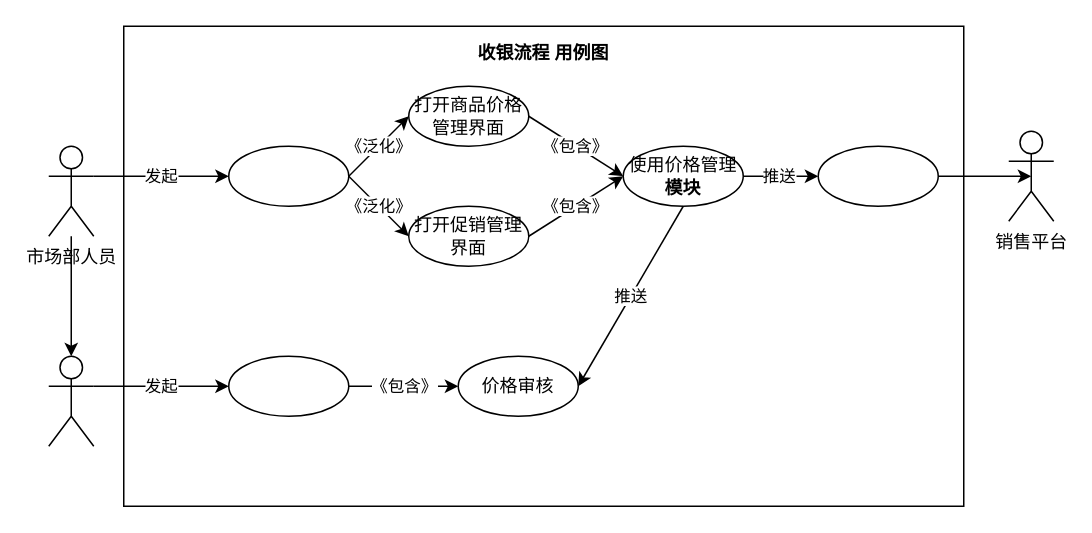
The diagram is 1092 pixels wide and 533 high, and some of its shapes have lost their labels. Each missing label, with the box of its shape:
打开商品价格管理里界面: (227, 355, 349, 416)
打开商品管理界面: (227, 145, 349, 206)
显示价格调整: (817, 145, 938, 206)
财务部人员: (47, 355, 94, 446)
